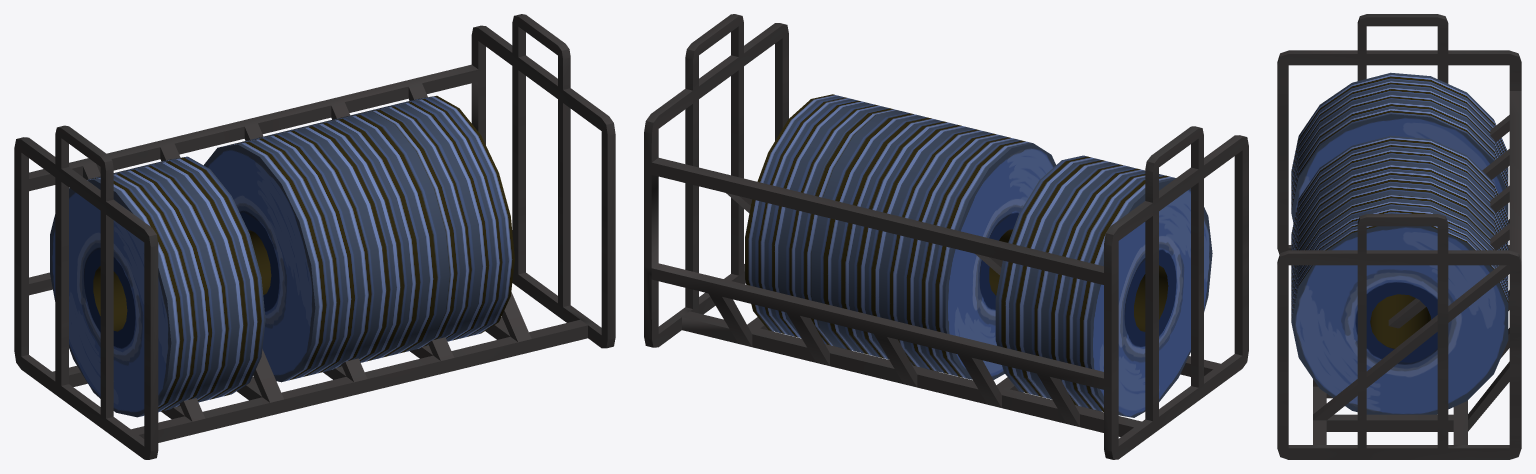
The model's file is cd_storage.FBX.
3 views of the same model, side by side, from view 1: azimuth 30°, elevation 25°; view 2: azimuth 150°, elevation 25°; view 3: azimuth 270°, elevation 25° (orthographic). The views are drawn at different scales.
Parts seen in each view (by area): view 1: _cd_storage; view 2: _cd_storage; view 3: _cd_storage.
Boxes of the visible parts, <box> form: _cd_storage: <box>14,14,615,459</box>; _cd_storage: <box>644,14,1248,459</box>; _cd_storage: <box>1277,14,1521,459</box>.
Bounding box in the file's own units: 1.74 × 0.9727 × 0.8824.
